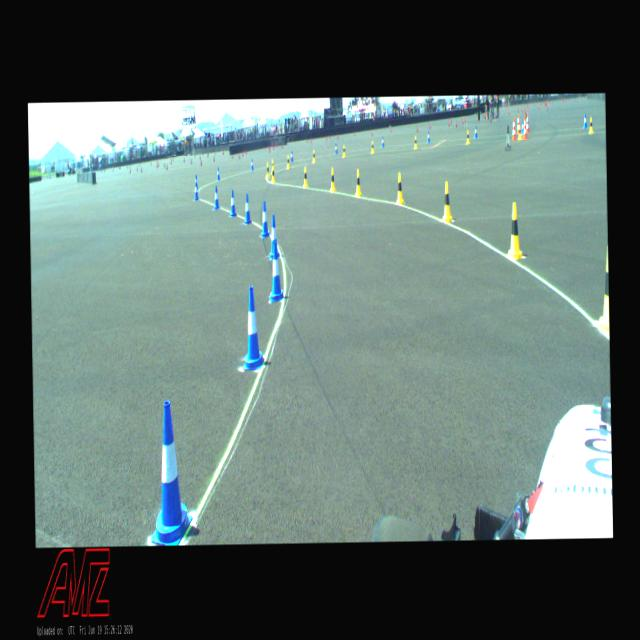blue_cone: (148, 400, 192, 545), (241, 286, 264, 368), (268, 241, 284, 302), (268, 214, 279, 258), (260, 202, 270, 238), (243, 194, 251, 224), (228, 189, 236, 217), (213, 186, 219, 209), (193, 181, 198, 199), (582, 114, 587, 128), (520, 118, 524, 135), (473, 126, 478, 138), (216, 167, 220, 181), (380, 136, 384, 148), (426, 131, 430, 143), (195, 174, 198, 190), (250, 158, 253, 170), (334, 142, 337, 154), (290, 151, 292, 162)
large_orange_cone: (511, 116, 515, 140), (522, 116, 526, 140), (525, 113, 529, 133), (516, 114, 520, 134)
yellow_cone: (596, 246, 608, 332), (506, 202, 522, 259), (442, 182, 452, 222), (396, 172, 404, 205), (354, 170, 360, 197), (329, 168, 335, 191), (302, 166, 308, 186), (270, 165, 274, 182), (588, 117, 592, 133), (266, 162, 270, 178), (270, 158, 274, 172), (466, 130, 470, 143), (286, 154, 289, 168), (312, 149, 315, 163), (342, 144, 345, 158), (414, 136, 417, 148), (371, 141, 374, 152), (518, 125, 520, 138)
